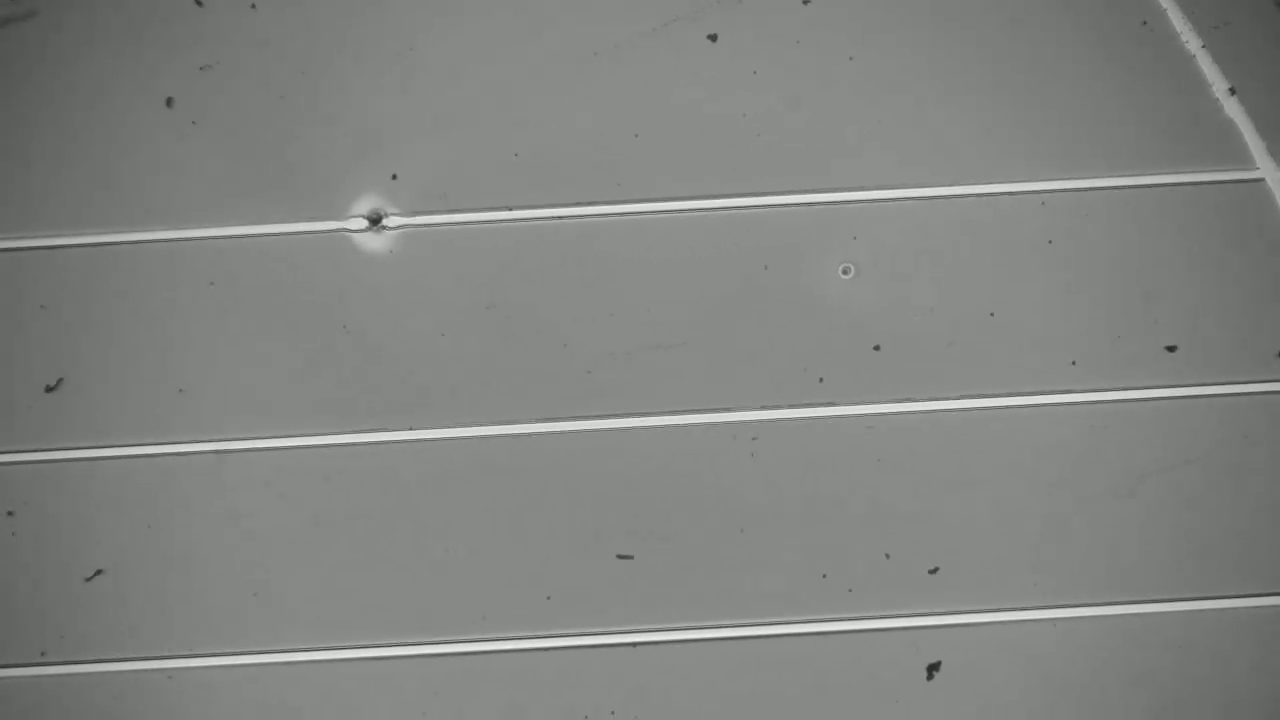stains_enbedded: (354, 205, 402, 243)
